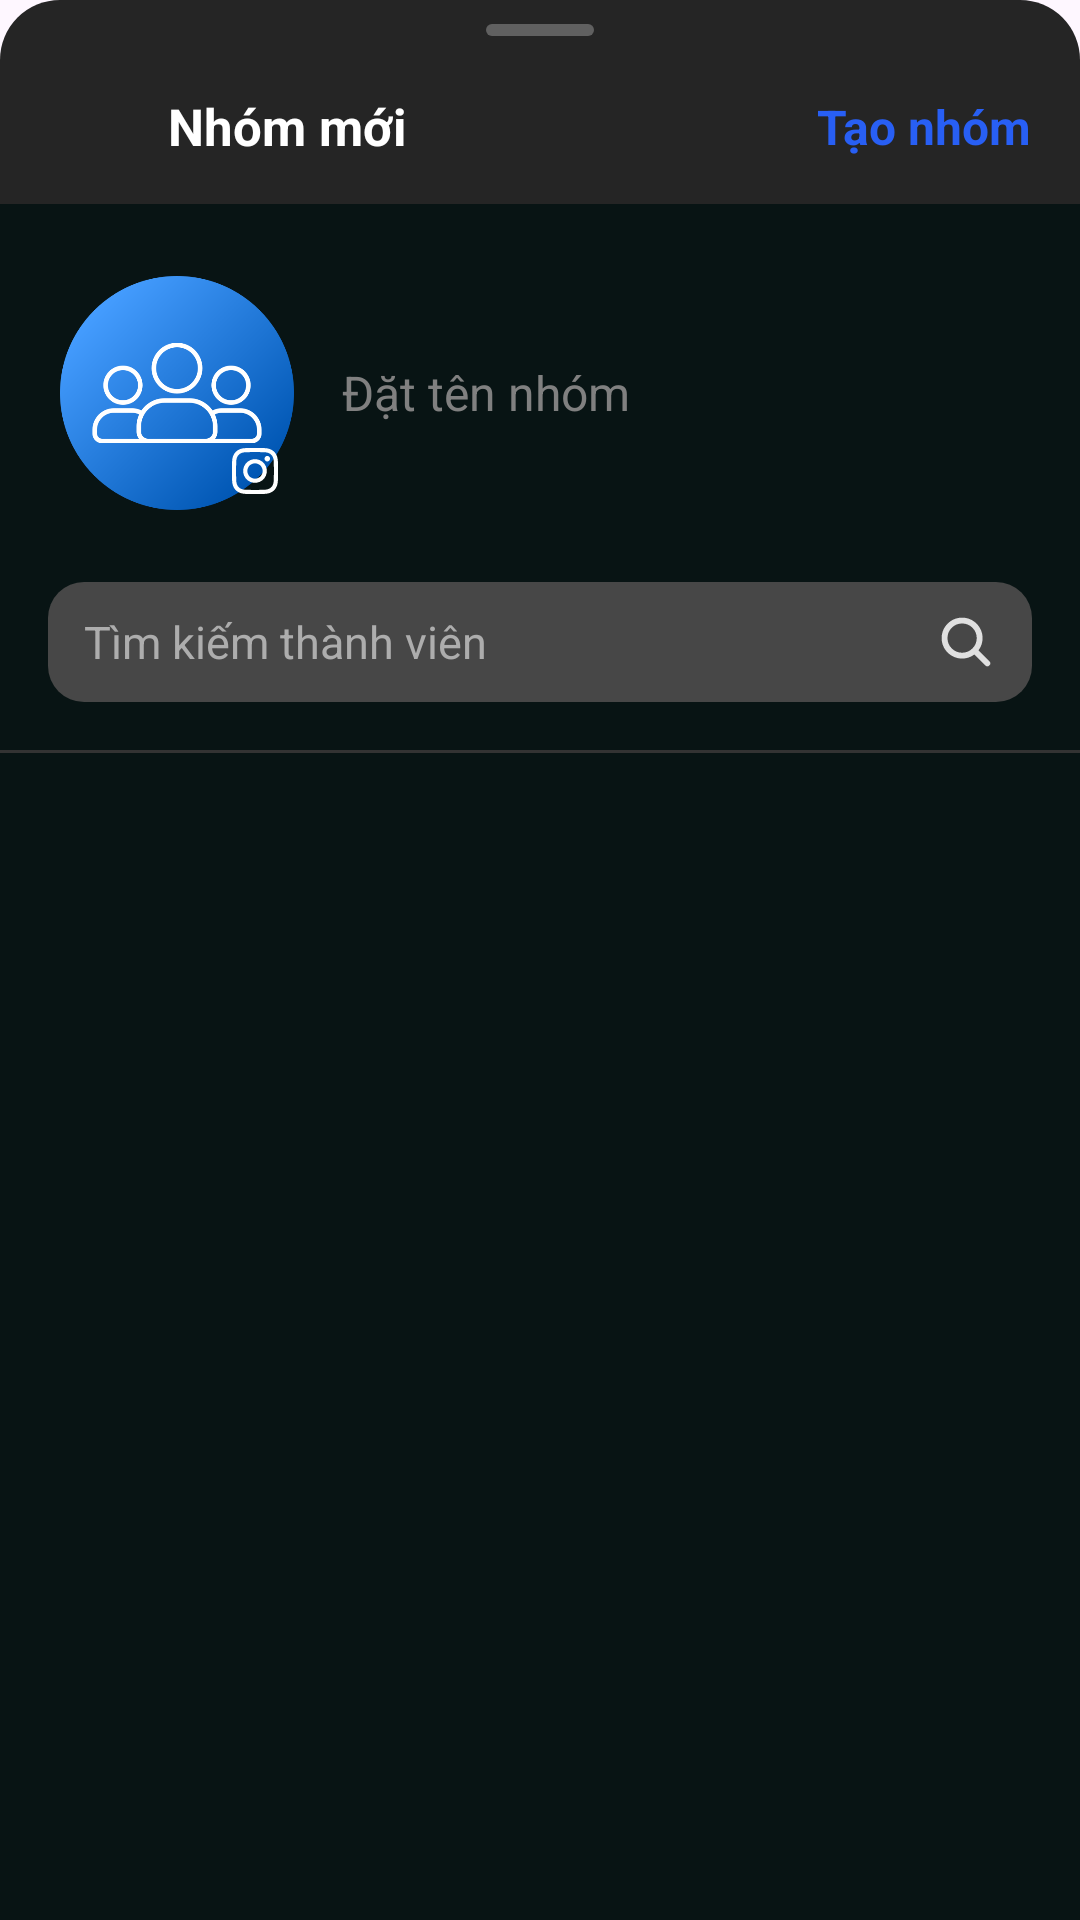

Icons on this 1080 x 1920 Android screen, each with the point to tap as (x=x, y=y):
search: (x=966, y=642)
